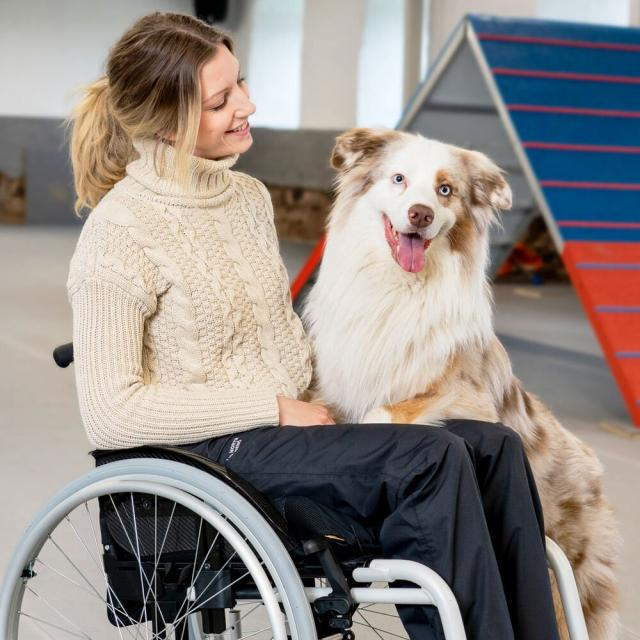wheelchairs: (8, 352, 603, 640)
